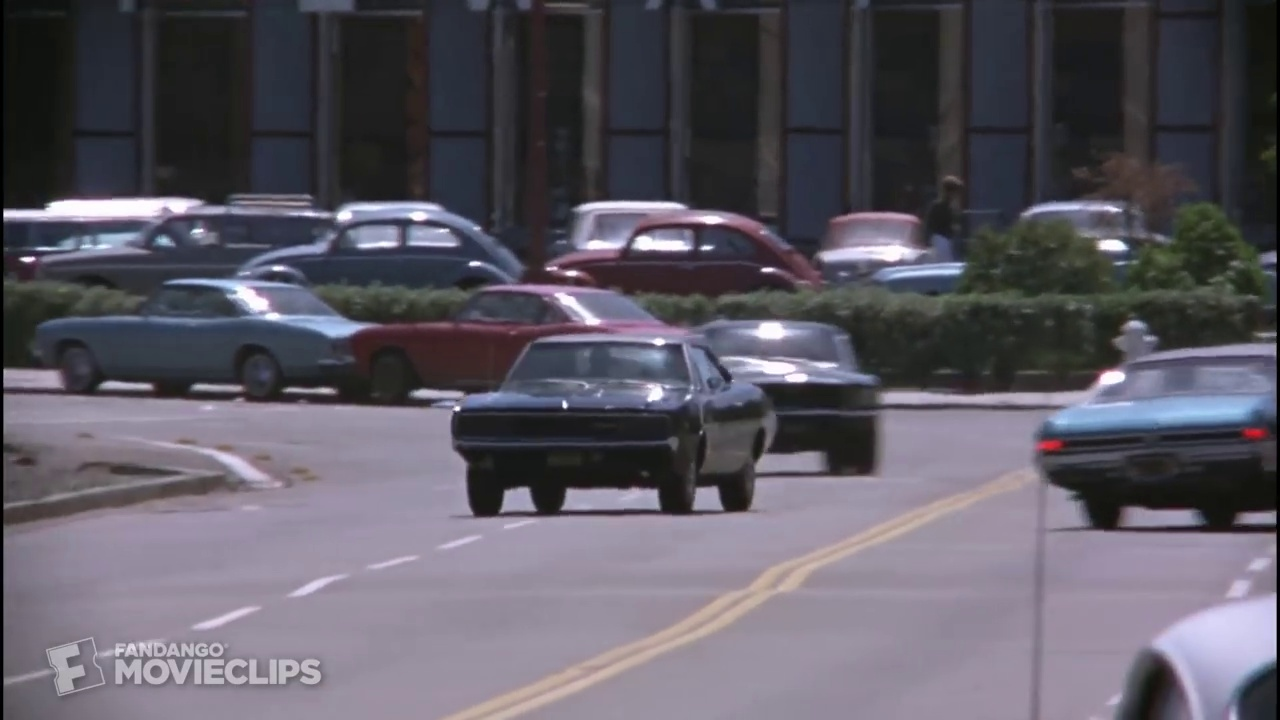car: (447, 330, 779, 524), (1029, 337, 1280, 534), (27, 277, 381, 401), (351, 281, 691, 403), (674, 317, 885, 479), (34, 203, 346, 292), (233, 205, 532, 292), (542, 207, 832, 294), (811, 207, 926, 287)
fire hydrant: (1096, 311, 1171, 398)
person: (921, 167, 969, 268)
